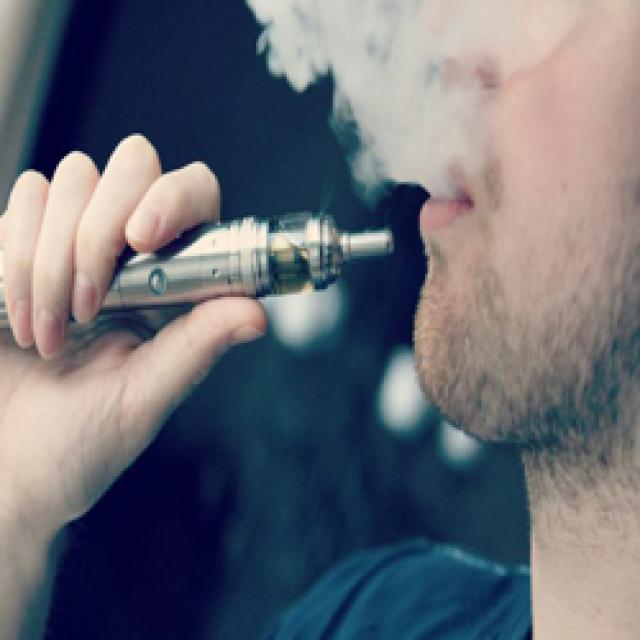Smooking: (84, 205, 403, 310)
